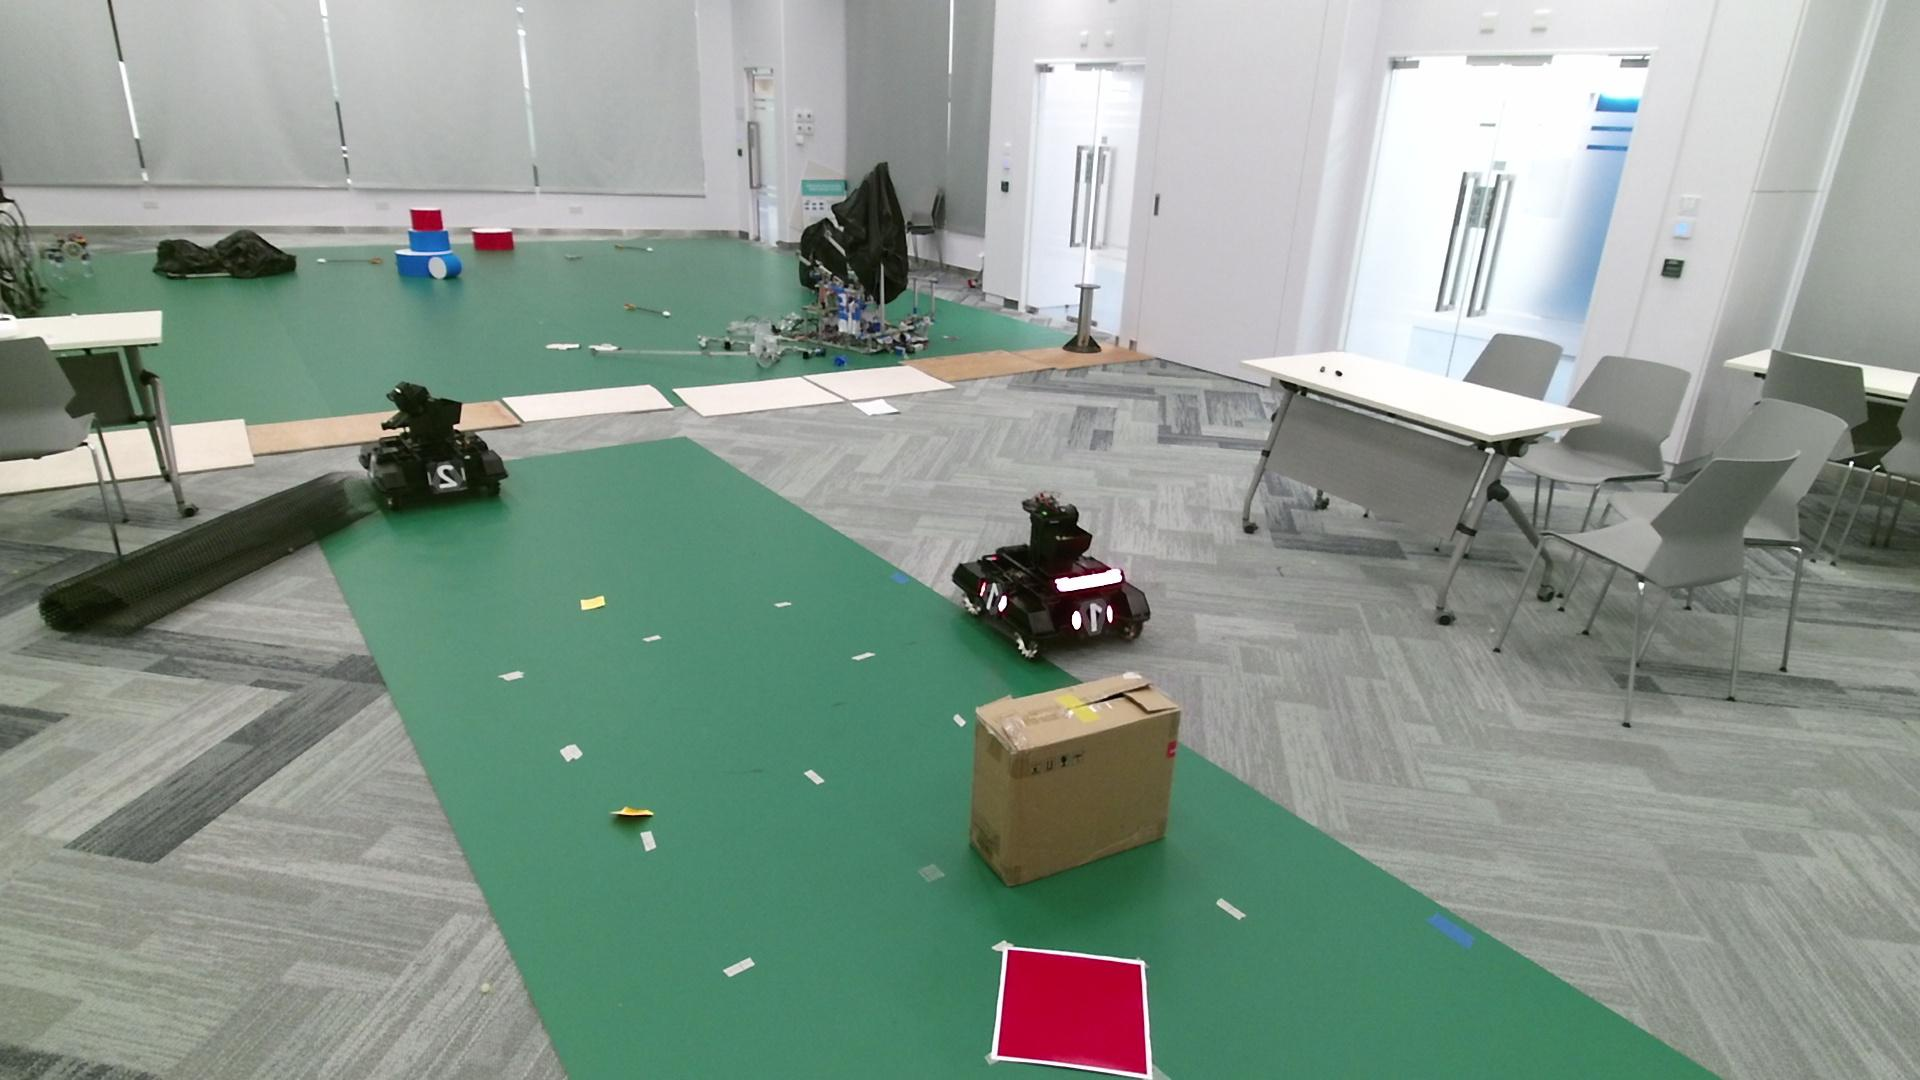robot: (952, 491, 1153, 661), (357, 380, 510, 513)
